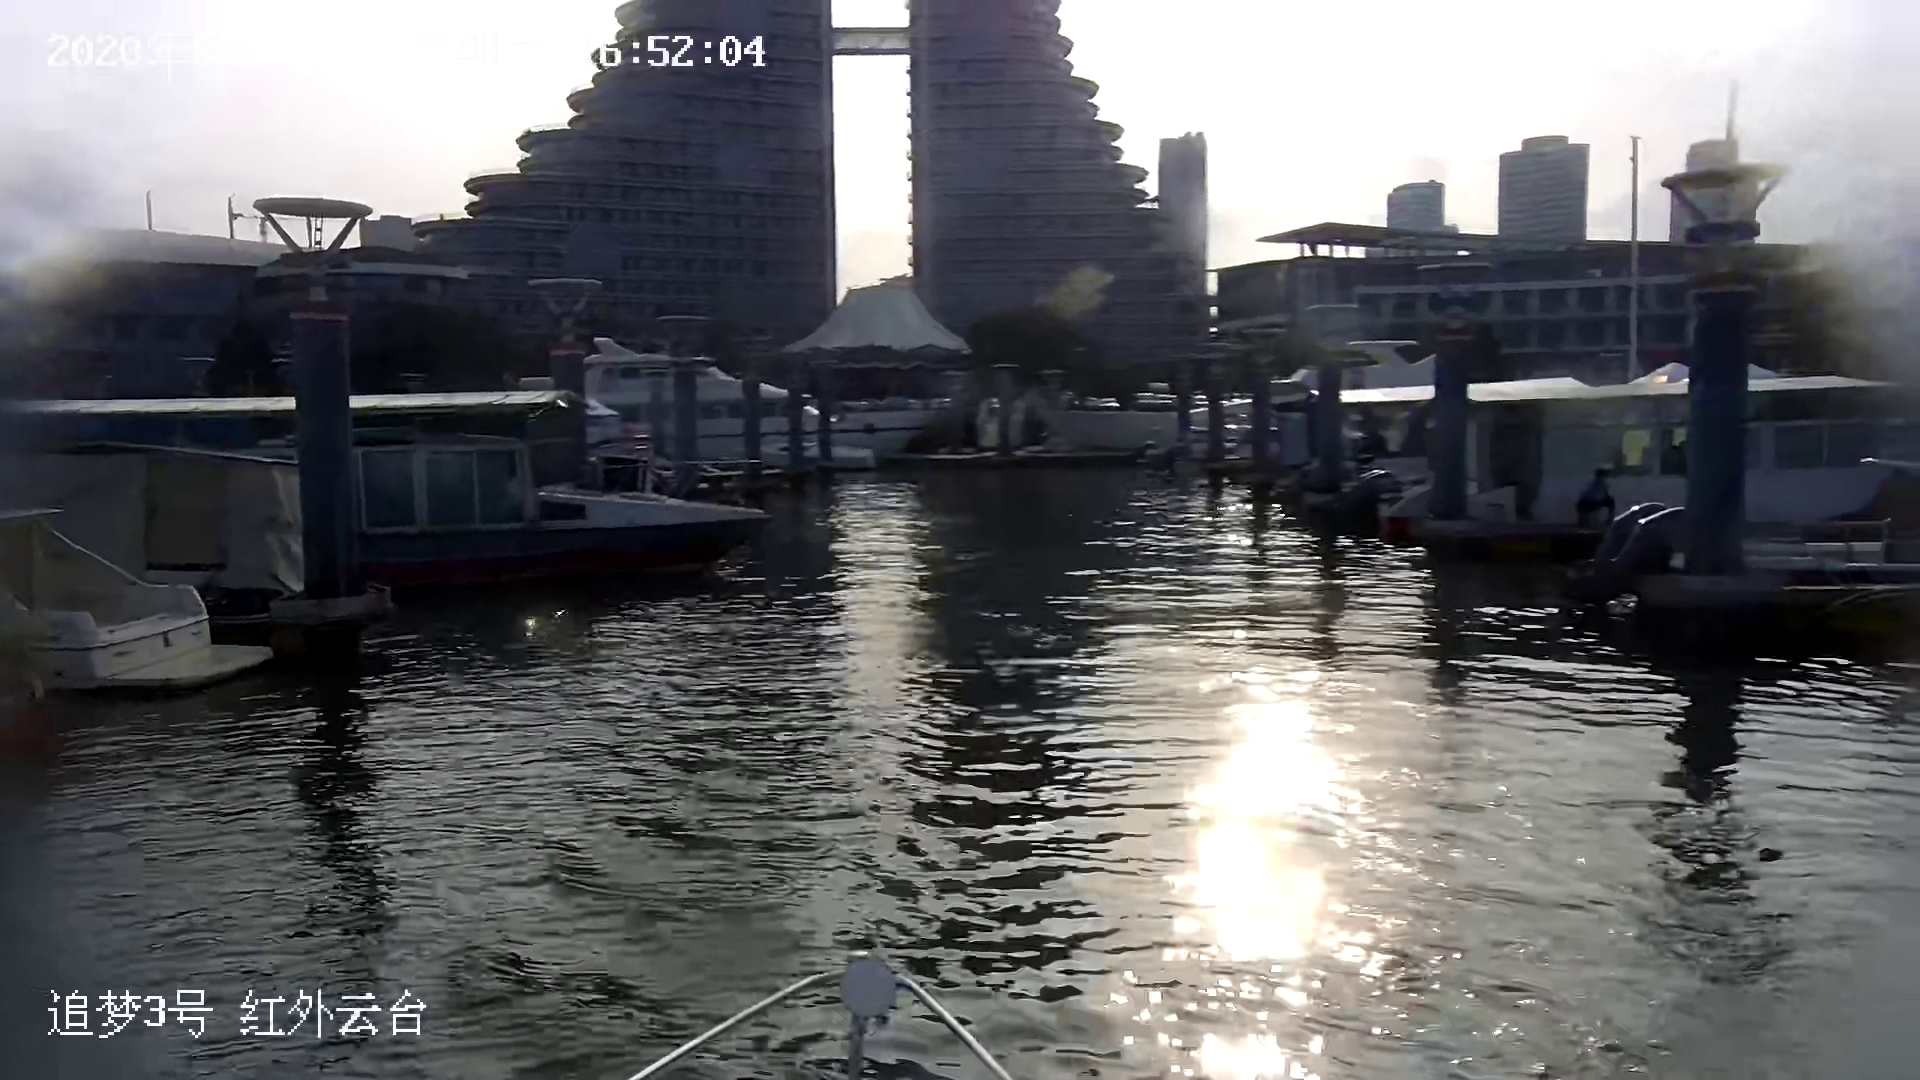barrier: (1, 397, 770, 570), (1414, 375, 1919, 556), (1, 495, 284, 698), (1307, 390, 1698, 527), (1276, 363, 1656, 477), (546, 338, 844, 463), (473, 381, 741, 491), (1027, 372, 1377, 452)
coast: (3, 3, 1899, 465)
this: (603, 940, 1025, 1079)
